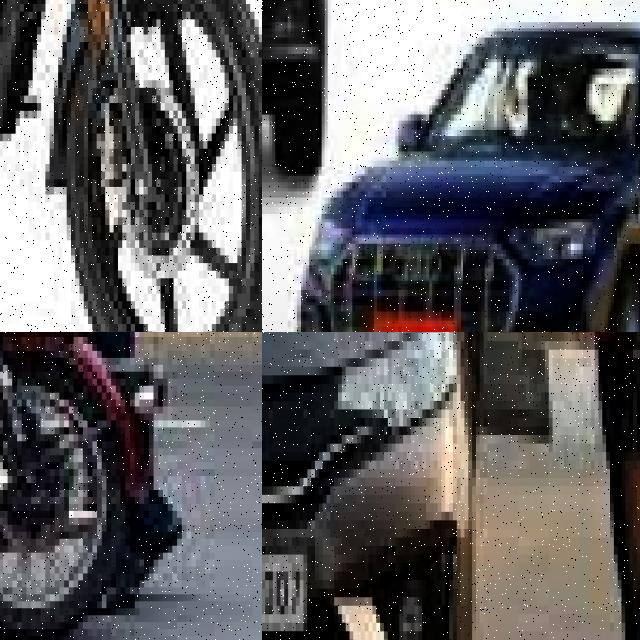bike: (0, 0, 262, 332), (0, 332, 167, 640)
car: (282, 0, 640, 332), (262, 332, 483, 640), (262, 0, 346, 182)
